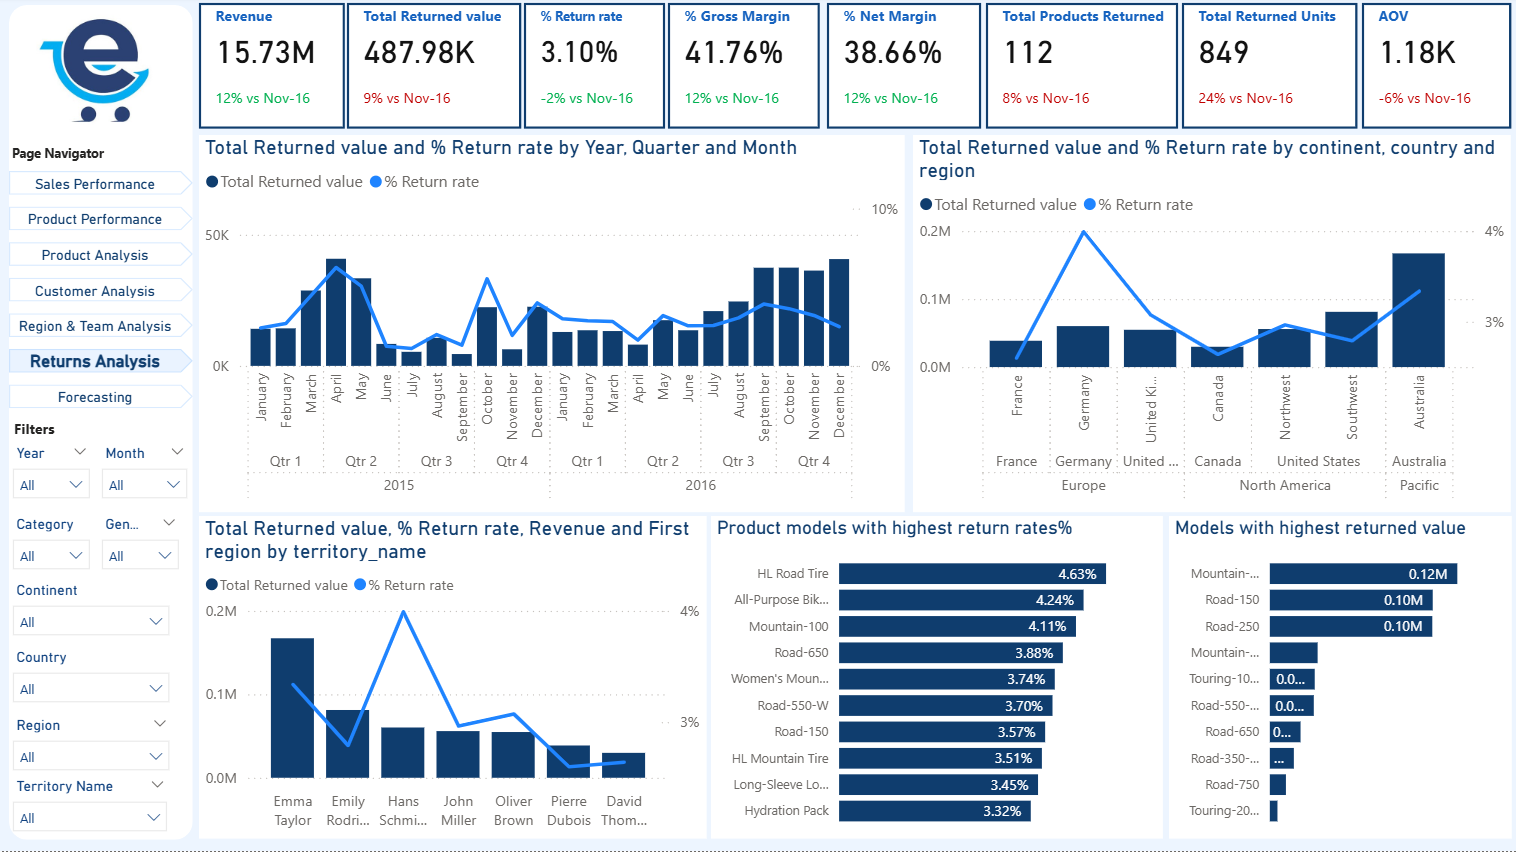

This screenshot's page, from the dashboard's own definition file:
{"tool":"powerbi","page":{"name":"Returns Analysis","canvas":[1280,720],"ordinal":5},"visuals":[{"type":"cardVisual","fields":{"Data":["All_measures.Revenue"]},"box":[162.4,0,133.6,116.8],"z":0},{"type":"cardVisual","fields":{"Data":["All_measures.% Gross Margin"]},"box":[558.5,0,138.9,116.7],"z":1000},{"type":"cardVisual","fields":{"Data":["All_measures.% Return rate"]},"box":[436.7,0,129.8,116.7],"z":2000},{"type":"cardVisual","fields":{"Data":["All_measures.% Net Margin"]},"box":[692.3,0,140.9,116.7],"z":3000},{"type":"cardVisual","fields":{"Data":["All_measures.Total Products Returned"]},"box":[826.2,0,172.1,116.7],"z":4000},{"type":"cardVisual","fields":{"Data":["All_measures.Total Returned value"]},"box":[287.8,0,158,116.7],"z":5000},{"type":"cardVisual","fields":{"Data":["All_measures.AOV"]},"box":[1143.1,0,136.9,116.7],"z":6000},{"type":"cardVisual","fields":{"Data":["All_measures.Total Returned Units"]},"box":[991.2,0,159,116.7],"z":7000},{"type":"lineStackedColumnComboChart","fields":{"Category":["gold dim_territories.continent Hierarchy.continent","gold dim_territories.continent Hierarchy.country","gold dim_territories.continent Hierarchy.region"],"Y2":["All_measures.% Return rate"],"Y":["All_measures.Total Returned value"]},"box":[769.8,116.7,504.2,318],"z":8000},{"type":"lineStackedColumnComboChart","fields":{"Category":["gold dim_date.calendar.Variation.Date Hierarchy.Year","gold dim_date.calendar.Variation.Date Hierarchy.Quarter","gold dim_date.calendar.Variation.Date Hierarchy.Month","gold dim_date.calendar.Variation.Date Hierarchy.Day"],"Y":["All_measures.Total Returned value"],"Y2":["All_measures.% Return rate"]},"box":[168.1,116.7,594.7,318],"z":9000},{"type":"lineStackedColumnComboChart","fields":{"Y2":["All_measures.% Return rate"],"Y":["All_measures.Total Returned value"],"Category":["gold dim_territories.territory_name"]},"box":[168.1,437.7,427.7,271.7],"z":10000},{"type":"barChart","title":"Product models with highest return rates% ","fields":{"Y":["All_measures.% Return rate"],"Category":["gold dim_products.model_name"]},"box":[599.7,437.7,381.4,271.7],"z":11000},{"type":"barChart","title":"Models with highest returned value","fields":{"Y":["All_measures.Total Returned value"],"Category":["gold dim_products.model_name"]},"box":[985.2,437.7,288.8,271.7],"z":12000},{"type":"shape","box":[7.3,6.4,155,703.8],"z":13000},{"type":"image","box":[25.2,6,114.7,110.7],"z":14000},{"type":"textbox","box":[5,116.7,112.7,30.2],"z":15000},{"type":"textbox","box":[7,349.2,56.4,33.2],"z":16000},{"type":"slicer","fields":{"Values":["gold dim_date.calendar.Variation.Date Hierarchy.Year"]},"box":[1,372.3,84.5,60.4],"z":17000},{"type":"slicer","fields":{"Values":["gold dim_products.category_name"]},"box":[1,432.7,84.5,55.3],"z":18000},{"type":"slicer","fields":{"Values":["gold dim_territories.continent"]},"box":[1,488.1,151.9,56.4],"z":19000},{"type":"slicer","fields":{"Values":["gold dim_territories.country"]},"box":[1,544.4,151.9,57.4],"z":20000},{"type":"slicer","fields":{"Values":["gold dim_territories.region"]},"box":[1,601.8,151.9,61.4],"z":21000},{"type":"slicer","fields":{"Values":["gold dim_territories.territory_name"]},"box":[1,653.1,149.9,56.4],"z":22000},{"type":"pageNavigator","box":[7.3,146.8,155,202.3],"z":23000},{"type":"slicer","fields":{"Values":["gold dim_customers.gender"]},"box":[75.5,432.7,84.5,55.3],"z":24000},{"type":"slicer","fields":{"Values":["gold dim_date.calendar.Variation.Date Hierarchy.Month"]},"box":[75.5,372.3,91.6,60.4],"z":25000}]}

Visuals, with their boxes in screenshot pixels (x1, y1, x2, y2), scaled from the page's 1280x720 canvas onto the 1516x852 screenshot:
cardVisual - All_measures.Revenue: l=192, t=0, r=351, b=138
cardVisual - All_measures.% Gross Margin: l=661, t=0, r=826, b=138
cardVisual - All_measures.% Return rate: l=517, t=0, r=671, b=138
cardVisual - All_measures.% Net Margin: l=820, t=0, r=987, b=138
cardVisual - All_measures.Total Products Returned: l=979, t=0, r=1182, b=138
cardVisual - All_measures.Total Returned value: l=341, t=0, r=528, b=138
cardVisual - All_measures.AOV: l=1354, t=0, r=1515, b=138
cardVisual - All_measures.Total Returned Units: l=1174, t=0, r=1362, b=138
lineStackedColumnComboChart - gold dim_territories.continent Hierarchy.continent x gold dim_territories.continent Hierarchy.country: l=912, t=138, r=1509, b=514
lineStackedColumnComboChart - gold dim_date.calendar.Variation.Date Hierarchy.Year x gold dim_date.calendar.Variation.Date Hierarchy.Quarter: l=199, t=138, r=903, b=514
lineStackedColumnComboChart - All_measures.% Return rate x All_measures.Total Returned value: l=199, t=518, r=706, b=839
"Product models with highest return rates% " barChart: l=710, t=518, r=1162, b=839
"Models with highest returned value" barChart: l=1167, t=518, r=1509, b=839
shape: l=9, t=8, r=192, b=840
image: l=30, t=7, r=166, b=138
textbox: l=6, t=138, r=139, b=174
textbox: l=8, t=413, r=75, b=453
slicer - gold dim_date.calendar.Variation.Date Hierarchy.Year: l=1, t=441, r=101, b=512
slicer - gold dim_products.category_name: l=1, t=512, r=101, b=577
slicer - gold dim_territories.continent: l=1, t=578, r=181, b=644
slicer - gold dim_territories.country: l=1, t=644, r=181, b=712
slicer - gold dim_territories.region: l=1, t=712, r=181, b=785
slicer - gold dim_territories.territory_name: l=1, t=773, r=179, b=840
pageNavigator: l=9, t=174, r=192, b=413
slicer - gold dim_customers.gender: l=89, t=512, r=190, b=577
slicer - gold dim_date.calendar.Variation.Date Hierarchy.Month: l=89, t=441, r=198, b=512
